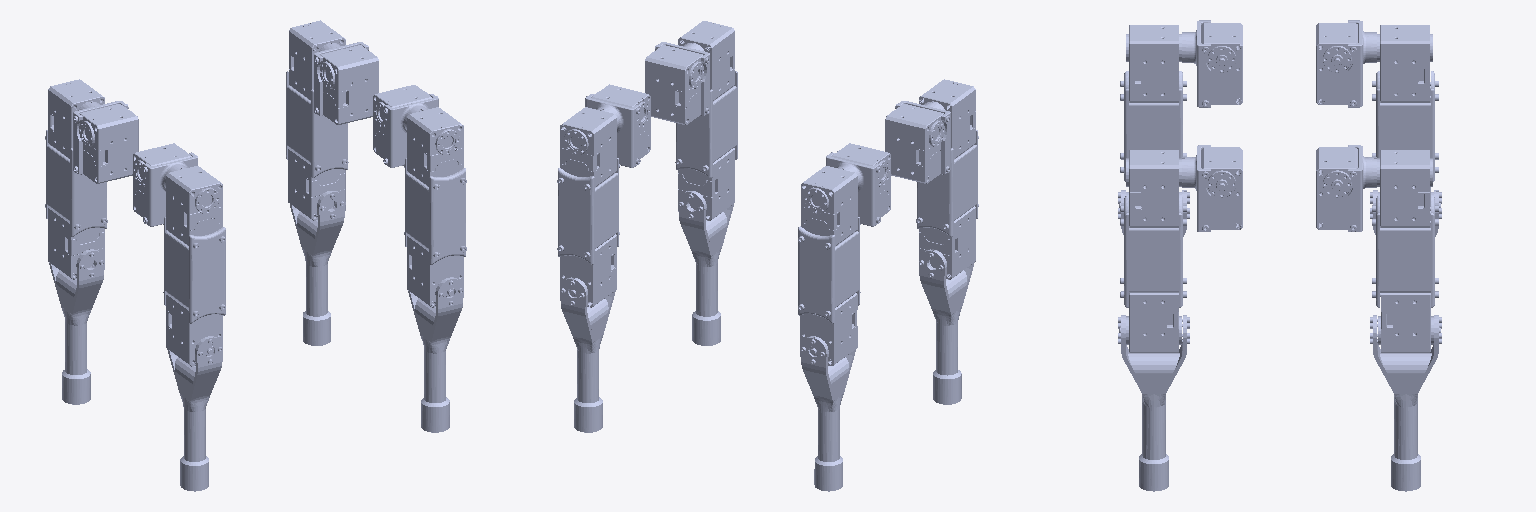
URDF robot description (spot_micro_urdf):
<?xml version="1.0" encoding="utf-8"?>
<!-- This URDF was automatically created by SolidWorks to URDF Exporter! Originally created by [author] ([email redacted]) 
     Commit Version:   Build Version: 1.5.7381.17410
     For more information, please see http://wiki.ros.org/sw_urdf_exporter -->
<robot
  name="spot_micro_urdf">
  <link
    name="base_link">
    <inertial>
      <origin
        xyz="-0.018628 -0.0015548 0.00027373"
        rpy="0 0 0" />
      <mass
        value="0.6304" />
      <inertia
        ixx="0.00067534"
        ixy="4.6709E-06"
        ixz="5.5758E-06"
        iyy="0.00079108"
        iyz="2.0138E-06"
        izz="0.00043164" />
    </inertial>
    <visual>
      <origin
        xyz="0 0 0"
        rpy="0 0 0" />
      <geometry>
        <mesh
          filename="package://spot_micro_urdf/meshes/base_link.STL" />
      </geometry>
      <material
        name="">
        <color
          rgba="0.79216 0.81961 0.93333 1" />
      </material>
    </visual>
    <collision>
      <origin
        xyz="0 0 0"
        rpy="0 0 0" />
      <geometry>
        <mesh
          filename="package://spot_micro_urdf/meshes/base_link.STL" />
      </geometry>
    </collision>
  </link>
  <link
    name="front_left_shoulder_link">
    <inertial>
      <origin
        xyz="-0.023049 -0.011251 0.0030217"
        rpy="0 0 0" />
      <mass
        value="0.053836" />
      <inertia
        ixx="1.231E-05"
        ixy="-1.9988E-08"
        ixz="-8.2538E-14"
        iyy="8.5609E-06"
        iyz="-1.9212E-07"
        izz="1.4971E-05" />
    </inertial>
    <visual>
      <origin
        xyz="0 0 0"
        rpy="0 0 0" />
      <geometry>
        <mesh
          filename="package://spot_micro_urdf/meshes/front_left_shoulder_link.STL" />
      </geometry>
      <material
        name="">
        <color
          rgba="0.79216 0.81961 0.93333 1" />
      </material>
    </visual>
    <collision>
      <origin
        xyz="0 0 0"
        rpy="0 0 0" />
      <geometry>
        <mesh
          filename="package://spot_micro_urdf/meshes/front_left_shoulder_link.STL" />
      </geometry>
    </collision>
  </link>
  <joint
    name="front_left_shoulder_joint"
    type="revolute">
    <origin
      xyz="-0.0766 -0.039001 0.009"
      rpy="1.5708 0 0" />
    <parent
      link="base_link" />
    <child
      link="front_left_shoulder_link" />
    <axis
      xyz="1 0 0" />
    <limit
      lower="0"
      upper="3.14"
      effort="3"
      velocity="8" />
  </joint>
  <link
    name="front_left_thigh_link">
    <inertial>
      <origin
        xyz="-0.00619574210169503 -0.0586729076344665 0.0234486520688062"
        rpy="0 0 0" />
      <mass
        value="0.109646588121453" />
      <inertia
        ixx="3.43822794991822E-05"
        ixy="-1.36658518464627E-06"
        ixz="4.00818780959156E-09"
        iyy="2.15851963413449E-05"
        iyz="3.79570403324651E-08"
        izz="2.9454540056775E-05" />
    </inertial>
    <visual>
      <origin
        xyz="0 0 0"
        rpy="0 0 0" />
      <geometry>
        <mesh
          filename="package://spot_micro_urdf/meshes/front_left_thigh_link.STL" />
      </geometry>
      <material
        name="">
        <color
          rgba="0.792156862745098 0.819607843137255 0.933333333333333 1" />
      </material>
    </visual>
    <collision>
      <origin
        xyz="0 0 0"
        rpy="0 0 0" />
      <geometry>
        <mesh
          filename="package://spot_micro_urdf/meshes/front_left_thigh_link.STL" />
      </geometry>
    </collision>
  </link>
  <joint
    name="front_left_thigh_joint"
    type="revolute">
    <origin
      xyz="-0.0234 0 0.0226"
      rpy="0 0 0.10521" />
    <parent
      link="front_left_shoulder_link" />
    <child
      link="front_left_thigh_link" />
    <axis
      xyz="0 0 1" />
    <limit
      lower="0"
      upper="3.14"
      effort="3"
      velocity="8" />
  </joint>
  <link
    name="front_left_calf_link">
    <inertial>
      <origin
        xyz="-0.00595727051237509 -0.0564146722989532 0.0234012848282968"
        rpy="0 0 0" />
      <mass
        value="0.0330275385657959" />
      <inertia
        ixx="3.10009122380525E-05"
        ixy="-2.92145799615948E-06"
        ixz="-2.82975208686277E-10"
        iyy="3.64357397824859E-06"
        iyz="-2.57299901780593E-09"
        izz="2.94958948717816E-05" />
    </inertial>
    <visual>
      <origin
        xyz="0 0 0"
        rpy="0 0 0" />
      <geometry>
        <mesh
          filename="package://spot_micro_urdf/meshes/front_left_calf_link.STL" />
      </geometry>
      <material
        name="">
        <color
          rgba="0.792156862745098 0.819607843137255 0.933333333333333 1" />
      </material>
    </visual>
    <collision>
      <origin
        xyz="0 0 0"
        rpy="0 0 0" />
      <geometry>
        <mesh
          filename="package://spot_micro_urdf/meshes/front_left_calf_link.STL" />
      </geometry>
    </collision>
  </link>
  <joint
    name="front_left_calf_joint"
    type="revolute">
    <origin
      xyz="-0.012392 -0.11735 0"
      rpy="0 0 0" />
    <parent
      link="front_left_thigh_link" />
    <child
      link="front_left_calf_link" />
    <axis
      xyz="0 0 1" />
    <limit
      lower="0"
      upper="3.14"
      effort="3"
      velocity="8" />
  </joint>
  <link
    name="rear_left_shoulder_link">
    <inertial>
      <origin
        xyz="0.0221010638498274 -0.0112512521280316 0.00302167917225548"
        rpy="0 0 0" />
      <mass
        value="0.0538361698312507" />
      <inertia
        ixx="1.23096037990251E-05"
        ixy="-1.99883382279228E-08"
        ixz="-8.25378897583322E-14"
        iyy="8.56085307877809E-06"
        iyz="-1.9211541118935E-07"
        izz="1.49711229821547E-05" />
    </inertial>
    <visual>
      <origin
        xyz="0 0 0"
        rpy="0 0 0" />
      <geometry>
        <mesh
          filename="package://spot_micro_urdf/meshes/rear_left_shoulder_link.STL" />
      </geometry>
      <material
        name="">
        <color
          rgba="0.792156862745098 0.819607843137255 0.933333333333333 1" />
      </material>
    </visual>
    <collision>
      <origin
        xyz="0 0 0"
        rpy="0 0 0" />
      <geometry>
        <mesh
          filename="package://spot_micro_urdf/meshes/rear_left_shoulder_link.STL" />
      </geometry>
    </collision>
  </link>
  <joint
    name="rear_left_shoulder_joint"
    type="revolute">
    <origin
      xyz="0.07825 -0.03899 0.009"
      rpy="1.5708 0 0" />
    <parent
      link="base_link" />
    <child
      link="rear_left_shoulder_link" />
    <axis
      xyz="1 0 0" />
    <limit
      lower="0"
      upper="3.14"
      effort="3"
      velocity="8" />
  </joint>
  <link
    name="rear_left_thigh_link">
    <inertial>
      <origin
        xyz="-0.00619574210169499 -0.0586729076344714 0.0234486520688073"
        rpy="0 0 0" />
      <mass
        value="0.109646588121453" />
      <inertia
        ixx="3.43822794991822E-05"
        ixy="-1.36658518464627E-06"
        ixz="4.00818780953842E-09"
        iyy="2.15851963413449E-05"
        iyz="3.79570403324706E-08"
        izz="2.94545400567749E-05" />
    </inertial>
    <visual>
      <origin
        xyz="0 0 0"
        rpy="0 0 0" />
      <geometry>
        <mesh
          filename="package://spot_micro_urdf/meshes/rear_left_thigh_link.STL" />
      </geometry>
      <material
        name="">
        <color
          rgba="0.792156862745098 0.819607843137255 0.933333333333333 1" />
      </material>
    </visual>
    <collision>
      <origin
        xyz="0 0 0"
        rpy="0 0 0" />
      <geometry>
        <mesh
          filename="package://spot_micro_urdf/meshes/rear_left_thigh_link.STL" />
      </geometry>
    </collision>
  </link>
  <joint
    name="rear_left_thigh_joint"
    type="revolute">
    <origin
      xyz="0.02175 0 0.0226"
      rpy="0 0 0.10521" />
    <parent
      link="rear_left_shoulder_link" />
    <child
      link="rear_left_thigh_link" />
    <axis
      xyz="0 0 1" />
    <limit
      lower="0"
      upper="3.14"
      effort="3"
      velocity="8" />
  </joint>
  <link
    name="rear_left_calf_link">
    <inertial>
      <origin
        xyz="-0.00595727051237364 -0.0564146722989437 0.0234012848282965"
        rpy="0 0 0" />
      <mass
        value="0.0330275385657959" />
      <inertia
        ixx="3.10009122380525E-05"
        ixy="-2.92145799615948E-06"
        ixz="-2.82975208697723E-10"
        iyy="3.6435739782486E-06"
        iyz="-2.57299901782875E-09"
        izz="2.94958948717816E-05" />
    </inertial>
    <visual>
      <origin
        xyz="0 0 0"
        rpy="0 0 0" />
      <geometry>
        <mesh
          filename="package://spot_micro_urdf/meshes/rear_left_calf_link.STL" />
      </geometry>
      <material
        name="">
        <color
          rgba="0.792156862745098 0.819607843137255 0.933333333333333 1" />
      </material>
    </visual>
    <collision>
      <origin
        xyz="0 0 0"
        rpy="0 0 0" />
      <geometry>
        <mesh
          filename="package://spot_micro_urdf/meshes/rear_left_calf_link.STL" />
      </geometry>
    </collision>
  </link>
  <joint
    name="rear_left_calf_joint"
    type="revolute">
    <origin
      xyz="-0.012392 -0.11735 0"
      rpy="0 0 0" />
    <parent
      link="rear_left_thigh_link" />
    <child
      link="rear_left_calf_link" />
    <axis
      xyz="0 0 1" />
    <limit
      lower="0"
      upper="3.14"
      effort="3"
      velocity="8" />
  </joint>
  <link
    name="rear_right_shoulder_link">
    <inertial>
      <origin
        xyz="-0.0221010443287984 -0.0112628264895643 0.00297824761232671"
        rpy="0 0 0" />
      <mass
        value="0.0538361698312506" />
      <inertia
        ixx="1.2309603799025E-05"
        ixy="1.99782384661779E-08"
        ixz="7.6997140744477E-11"
        iyy="8.56243090796879E-06"
        iyz="-2.16841277928027E-07"
        izz="1.4969545152964E-05" />
    </inertial>
    <visual>
      <origin
        xyz="0 0 0"
        rpy="0 0 0" />
      <geometry>
        <mesh
          filename="package://spot_micro_urdf/meshes/rear_right_shoulder_link.STL" />
      </geometry>
      <material
        name="">
        <color
          rgba="0.792156862745098 0.819607843137255 0.933333333333333 1" />
      </material>
    </visual>
    <collision>
      <origin
        xyz="0 0 0"
        rpy="0 0 0" />
      <geometry>
        <mesh
          filename="package://spot_micro_urdf/meshes/rear_right_shoulder_link.STL" />
      </geometry>
    </collision>
  </link>
  <joint
    name="rear_right_shoulder_joint"
    type="revolute">
    <origin
      xyz="0.07825 0.03901 0.009"
      rpy="1.5669 0 3.1416" />
    <parent
      link="base_link" />
    <child
      link="rear_right_shoulder_link" />
    <axis
      xyz="1 0 0" />
    <limit
      lower="0"
      upper="3.14"
      effort="3"
      velocity="8" />
  </joint>
  <link
    name="rear_right_thigh_link">
    <inertial>
      <origin
        xyz="7.65536245506127E-12 -0.059090132196722 0.0234730601618335"
        rpy="0 0 0" />
      <mass
        value="0.109646588121453" />
      <inertia
        ixx="3.4526588171037E-05"
        ixy="5.94998481211538E-20"
        ixz="-6.75995292695007E-20"
        iyy="2.14407124410559E-05"
        iyz="7.24927683589879E-09"
        izz="2.94547152852092E-05" />
    </inertial>
    <visual>
      <origin
        xyz="0 0 0"
        rpy="0 0 0" />
      <geometry>
        <mesh
          filename="package://spot_micro_urdf/meshes/rear_right_thigh_link.STL" />
      </geometry>
      <material
        name="">
        <color
          rgba="0.792156862745098 0.819607843137255 0.933333333333333 1" />
      </material>
    </visual>
    <collision>
      <origin
        xyz="0 0 0"
        rpy="0 0 0" />
      <geometry>
        <mesh
          filename="package://spot_micro_urdf/meshes/rear_right_thigh_link.STL" />
      </geometry>
    </collision>
  </link>
  <joint
    name="rear_right_thigh_joint"
    type="revolute">
    <origin
      xyz="-0.02175 -8.6996E-05 0.022548"
      rpy="0 0 0" />
    <parent
      link="rear_right_shoulder_link" />
    <child
      link="rear_right_thigh_link" />
    <axis
      xyz="0 0.0038582 -0.99999" />
    <limit
      lower="0"
      upper="3.14"
      effort="3"
      velocity="8" />
  </joint>
  <link
    name="rear_right_calf_link">
    <inertial>
      <origin
        xyz="-0.00595727051237448 -0.0564146722989436 -0.0239501199137928"
        rpy="0 0 0" />
      <mass
        value="0.0330275385657959" />
      <inertia
        ixx="3.10009122380525E-05"
        ixy="-2.9214579961595E-06"
        ixz="-2.82975208695504E-10"
        iyy="3.6435739782486E-06"
        iyz="-2.57299901779968E-09"
        izz="2.94958948717816E-05" />
    </inertial>
    <visual>
      <origin
        xyz="0 0 0"
        rpy="0 0 0" />
      <geometry>
        <mesh
          filename="package://spot_micro_urdf/meshes/rear_right_calf_link.STL" />
      </geometry>
      <material
        name="">
        <color
          rgba="0.792156862745098 0.819607843137255 0.933333333333333 1" />
      </material>
    </visual>
    <collision>
      <origin
        xyz="0 0 0"
        rpy="0 0 0" />
      <geometry>
        <mesh
          filename="package://spot_micro_urdf/meshes/rear_right_calf_link.STL" />
      </geometry>
    </collision>
  </link>
  <joint
    name="rear_right_calf_joint"
    type="revolute">
    <origin
      xyz="0 -0.118 -0.00045526"
      rpy="3.1378 -0.00040516 3.0364" />
    <parent
      link="rear_right_thigh_link" />
    <child
      link="rear_right_calf_link" />
    <axis
      xyz="0 0 1" />
    <limit
      lower="0"
      upper="3.14"
      effort="3"
      velocity="8" />
  </joint>
  <link
    name="front_right_shoulder_link">
    <inertial>
      <origin
        xyz="0.0230489556712015 -0.0112628264895641 0.00297824761232613"
        rpy="0 0 0" />
      <mass
        value="0.0538361698312505" />
      <inertia
        ixx="1.2309603799025E-05"
        ixy="1.99782384661736E-08"
        ixz="7.69971407261538E-11"
        iyy="8.56243090796878E-06"
        iyz="-2.16841277928029E-07"
        izz="1.4969545152964E-05" />
    </inertial>
    <visual>
      <origin
        xyz="0 0 0"
        rpy="0 0 0" />
      <geometry>
        <mesh
          filename="package://spot_micro_urdf/meshes/front_right_shoulder_link.STL" />
      </geometry>
      <material
        name="">
        <color
          rgba="0.792156862745098 0.819607843137255 0.933333333333333 1" />
      </material>
    </visual>
    <collision>
      <origin
        xyz="0 0 0"
        rpy="0 0 0" />
      <geometry>
        <mesh
          filename="package://spot_micro_urdf/meshes/front_right_shoulder_link.STL" />
      </geometry>
    </collision>
  </link>
  <joint
    name="front_right_shoulder_joint"
    type="revolute">
    <origin
      xyz="-0.0766 0.039021 0.009"
      rpy="1.5669 0 3.1416" />
    <parent
      link="base_link" />
    <child
      link="front_right_shoulder_link" />
    <axis
      xyz="1 0 0" />
    <limit
      lower="0"
      upper="3.14"
      effort="3"
      velocity="8" />
  </joint>
  <link
    name="front_right_thigh_link">
    <inertial>
      <origin
        xyz="7.65534857727346E-12 -0.059090132196722 0.0234730601618334"
        rpy="0 0 0" />
      <mass
        value="0.109646588121453" />
      <inertia
        ixx="3.45265881710369E-05"
        ixy="5.59145117629383E-20"
        ixz="-5.25519513846097E-20"
        iyy="2.14407124410558E-05"
        iyz="7.24927683588759E-09"
        izz="2.94547152852092E-05" />
    </inertial>
    <visual>
      <origin
        xyz="0 0 0"
        rpy="0 0 0" />
      <geometry>
        <mesh
          filename="package://spot_micro_urdf/meshes/front_right_thigh_link.STL" />
      </geometry>
      <material
        name="">
        <color
          rgba="0.792156862745098 0.819607843137255 0.933333333333333 1" />
      </material>
    </visual>
    <collision>
      <origin
        xyz="0 0 0"
        rpy="0 0 0" />
      <geometry>
        <mesh
          filename="package://spot_micro_urdf/meshes/front_right_thigh_link.STL" />
      </geometry>
    </collision>
  </link>
  <joint
    name="front_right_thigh_joint"
    type="revolute">
    <origin
      xyz="0.0234 -8.6996E-05 0.022548"
      rpy="0 0 0" />
    <parent
      link="front_right_shoulder_link" />
    <child
      link="front_right_thigh_link" />
    <axis
      xyz="0 0.0038582 -0.99999" />
    <limit
      lower="0"
      upper="3.14"
      effort="3"
      velocity="8" />
  </joint>
  <link
    name="front_right_calf_link">
    <inertial>
      <origin
        xyz="-0.00595727051237431 -0.0564146722989437 -0.0239501199137927"
        rpy="0 0 0" />
      <mass
        value="0.0330275385657959" />
      <inertia
        ixx="3.10009122380525E-05"
        ixy="-2.9214579961595E-06"
        ixz="-2.82975208683211E-10"
        iyy="3.6435739782486E-06"
        iyz="-2.57299901780539E-09"
        izz="2.94958948717816E-05" />
    </inertial>
    <visual>
      <origin
        xyz="0 0 0"
        rpy="0 0 0" />
      <geometry>
        <mesh
          filename="package://spot_micro_urdf/meshes/front_right_calf_link.STL" />
      </geometry>
      <material
        name="">
        <color
          rgba="0.792156862745098 0.819607843137255 0.933333333333333 1" />
      </material>
    </visual>
    <collision>
      <origin
        xyz="0 0 0"
        rpy="0 0 0" />
      <geometry>
        <mesh
          filename="package://spot_micro_urdf/meshes/front_right_calf_link.STL" />
      </geometry>
    </collision>
  </link>
  <joint
    name="front_right_calf_joint"
    type="revolute">
    <origin
      xyz="0 -0.118 -0.00045526"
      rpy="3.1378 -0.00040516 3.0364" />
    <parent
      link="front_right_thigh_link" />
    <child
      link="front_right_calf_link" />
    <axis
      xyz="0 0 1" />
    <limit
      lower="0"
      upper="3.14"
      effort="3"
      velocity="8" />
  </joint>
</robot>

--- Facts derived from the render (not from the file) ---
Views: 3 orthographic renders of the robot side by side, from view 1: azimuth 30°, elevation 25°; view 2: azimuth 150°, elevation 25°; view 3: azimuth 270°, elevation 25°.
Model spot_micro_urdf with 13 links and 12 joints (12 revolute), rooted at base_link, posed every joint at zero.
Visible links, largest first — view 1: front_left_thigh_link, rear_left_thigh_link, rear_right_thigh_link, front_right_thigh_link, front_right_shoulder_link, rear_right_shoulder_link, front_right_calf_link, rear_left_calf_link, front_left_calf_link, rear_right_calf_link, rear_left_shoulder_link, front_left_shoulder_link; view 2: front_right_thigh_link, rear_right_thigh_link, rear_left_thigh_link, front_left_thigh_link, front_left_shoulder_link, rear_left_shoulder_link, front_left_calf_link, rear_left_calf_link, rear_right_calf_link, front_right_calf_link, rear_right_shoulder_link, front_right_shoulder_link; view 3: rear_left_thigh_link, rear_right_thigh_link, front_right_thigh_link, front_left_thigh_link, rear_left_calf_link, rear_right_calf_link, rear_right_shoulder_link, front_right_shoulder_link, rear_left_shoulder_link, front_left_shoulder_link.
Link boxes in pixels (x1,y1,x2,y2): front_left_thigh_link: (163,166,225,366); rear_left_thigh_link: (404,107,466,307); rear_right_thigh_link: (286,20,348,220); front_right_thigh_link: (45,79,107,279); front_right_shoulder_link: (73,101,138,183); rear_right_shoulder_link: (314,42,378,124); front_right_calf_link: (49,249,104,404); rear_left_calf_link: (408,277,463,432); front_left_calf_link: (167,336,222,491); rear_right_calf_link: (290,191,345,345); rear_left_shoulder_link: (373,85,438,167); front_left_shoulder_link: (133,143,197,226); front_right_thigh_link: (798,166,860,365); rear_right_thigh_link: (557,107,619,307); rear_left_thigh_link: (675,21,737,220); front_left_thigh_link: (916,79,978,279); front_left_shoulder_link: (885,101,950,183); rear_left_shoulder_link: (645,42,709,124); front_left_calf_link: (919,249,974,404); rear_left_calf_link: (678,191,733,345); rear_right_calf_link: (560,277,615,432); front_right_calf_link: (800,336,855,491); rear_right_shoulder_link: (585,84,650,167); front_right_shoulder_link: (826,143,890,226); rear_left_thigh_link: (1119,150,1186,352); rear_right_thigh_link: (1372,150,1440,352); front_right_thigh_link: (1372,25,1440,207); front_left_thigh_link: (1119,25,1186,207); rear_left_calf_link: (1118,315,1189,491); rear_right_calf_link: (1370,315,1441,491); rear_right_shoulder_link: (1316,145,1376,231); front_right_shoulder_link: (1316,20,1376,107); rear_left_shoulder_link: (1182,145,1242,231); front_left_shoulder_link: (1182,20,1242,107).
Size in the robot's own frame: 0.2452 by 0.219 by 0.2473 metres.
12 mesh visuals loaded from 13 distinct referenced files (12 binary STL); not drawn: 1 (reference not matched to a file when rendering).